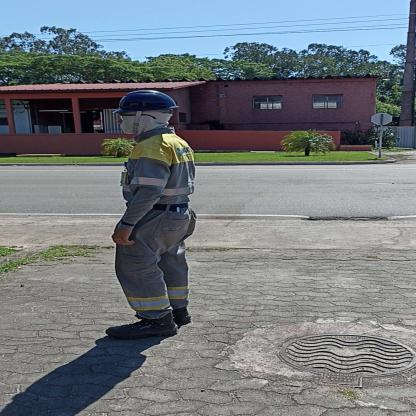Balaclava: (118, 109, 172, 137)
Capacete: (108, 87, 181, 111)
